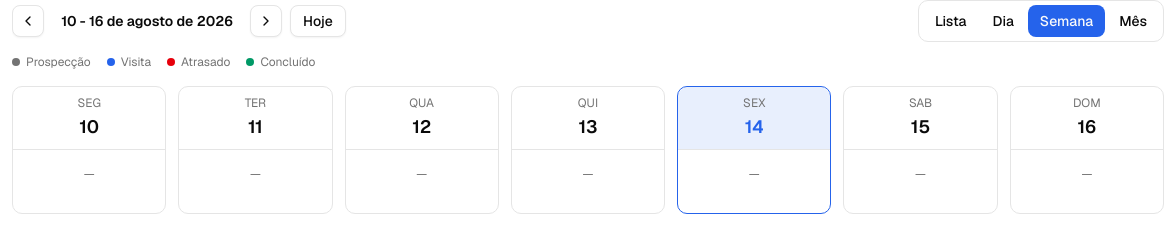
Test case: AgendaCalendario › avançar no modo semana move o rótulo uma semana
Click the button named "Próximo período": x=266, y=21 [250,5,282,37]
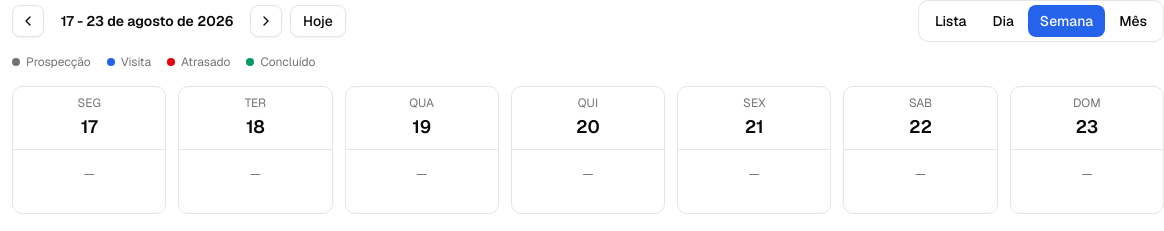
expect the text "17 - 23 de agosto de 2026" is shown: met, box [52,11,242,31]
